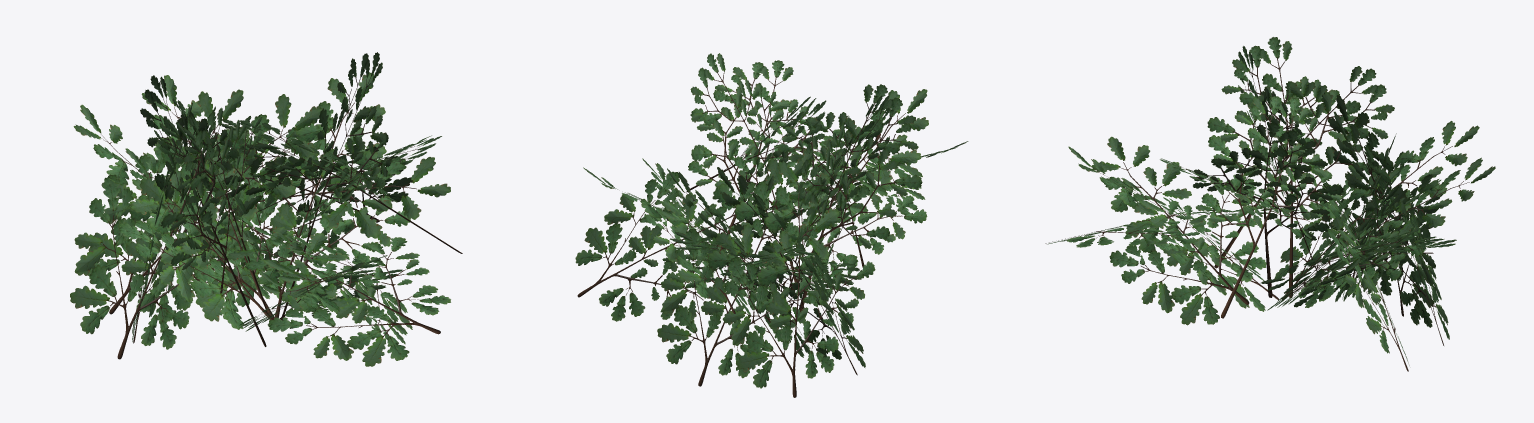
Rendered from Bush_03.obj.
3 views of the same model, side by side, from view 1: azimuth 30°, elevation 25°; view 2: azimuth 150°, elevation 25°; view 3: azimuth 270°, elevation 25° (orthographic). The views are drawn at different scales.
Visible parts, largest first — view 1: Plane.372_Plane.401, Plane.373_Plane.402, Plane.367_Plane.396, Plane.369_Plane.398, Plane.375_Plane.404, Plane.377_Plane.406; view 2: Plane.372_Plane.401, Plane.369_Plane.398, Plane.373_Plane.402, Plane.375_Plane.404, Plane.377_Plane.406, Plane.367_Plane.396; view 3: Plane.367_Plane.396, Plane.377_Plane.406, Plane.375_Plane.404, Plane.372_Plane.401, Plane.369_Plane.398, Plane.373_Plane.402.
Boxes of the visible parts, box(x1,y1,x2,y2) form: Plane.372_Plane.401: box(70, 89, 272, 359); Plane.373_Plane.402: box(195, 72, 450, 317); Plane.367_Plane.396: box(226, 226, 450, 366); Plane.369_Plane.398: box(87, 75, 322, 323); Plane.375_Plane.404: box(140, 75, 268, 346); Plane.377_Plane.406: box(221, 52, 462, 320); Plane.372_Plane.401: box(703, 147, 875, 397); Plane.369_Plane.398: box(657, 158, 822, 386); Plane.373_Plane.402: box(575, 158, 796, 321); Plane.375_Plane.404: box(778, 84, 922, 311); Plane.377_Plane.406: box(686, 53, 832, 283); Plane.367_Plane.396: box(729, 89, 968, 290); Plane.367_Plane.396: box(1045, 136, 1299, 325); Plane.377_Plane.406: box(1160, 96, 1375, 318); Plane.375_Plane.404: box(1207, 37, 1394, 297); Plane.372_Plane.401: box(1274, 95, 1479, 318); Plane.369_Plane.398: box(1287, 111, 1495, 345); Plane.373_Plane.402: box(1260, 167, 1456, 371).
Size of the model in its own units: 1.49 by 1.24 by 1.72.
1 material, 1 textured.
